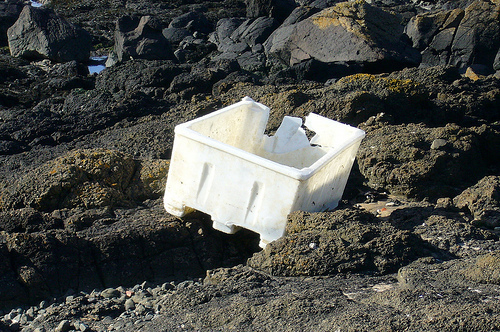litter: (164, 93, 366, 242)
